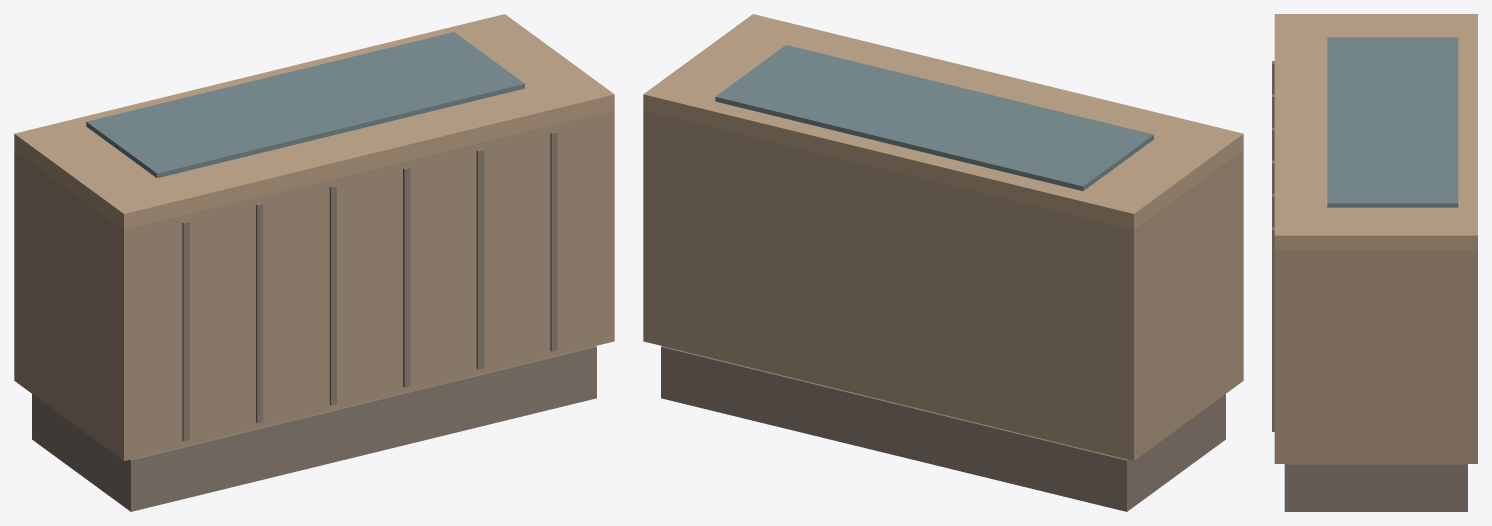
File: container_counter.glb
3 renders of one model, left to right at view 1: azimuth 30°, elevation 25°; view 2: azimuth 150°, elevation 25°; view 3: azimuth 270°, elevation 25°, orthographic. The views are drawn at different scales.
Parts seen in each view (by area): view 1: Cct_Front, Cct_Top, Cct_Kick, Cct_Showcase, Cct_Side-1, Cct_Side1, Cct_Strip4, Cct_Back, Cct_Strip2, Cct_Strip5, Cct_Strip0, Cct_Strip3 (+1 smaller); view 2: Cct_Back, Cct_Top, Cct_Kick, Cct_Showcase, Cct_Side-1, Cct_Side1, Cct_Front; view 3: Cct_Side1, Cct_Top, Cct_Showcase, Cct_Kick, Cct_Front, Cct_Back, Cct_Strip5.
Boxes of the visible parts, bbox=[...] form: Cct_Front: bbox=[115, 114, 599, 460]; Cct_Top: bbox=[14, 14, 614, 229]; Cct_Kick: bbox=[32, 346, 596, 511]; Cct_Showcase: bbox=[86, 32, 524, 178]; Cct_Side-1: bbox=[21, 155, 139, 460]; Cct_Side1: bbox=[599, 110, 614, 344]; Cct_Strip4: bbox=[476, 149, 484, 369]; Cct_Back: bbox=[14, 150, 21, 385]; Cct_Strip2: bbox=[329, 185, 336, 405]; Cct_Strip5: bbox=[550, 131, 557, 351]; Cct_Strip0: bbox=[182, 221, 189, 441]; Cct_Strip3: bbox=[403, 167, 410, 387]; Cct_Back: bbox=[658, 114, 1140, 460]; Cct_Top: bbox=[643, 14, 1243, 229]; Cct_Kick: bbox=[661, 346, 1225, 511]; Cct_Showcase: bbox=[715, 45, 1153, 190]; Cct_Side-1: bbox=[1118, 156, 1234, 460]; Cct_Side1: bbox=[643, 110, 658, 344]; Cct_Front: bbox=[1234, 150, 1243, 386]; Cct_Side1: bbox=[1291, 250, 1464, 463]; Cct_Top: bbox=[1274, 14, 1477, 250]; Cct_Showcase: bbox=[1327, 37, 1458, 207]; Cct_Kick: bbox=[1284, 464, 1467, 511]; Cct_Front: bbox=[1274, 250, 1290, 463]; Cct_Back: bbox=[1464, 250, 1477, 463]; Cct_Strip5: bbox=[1272, 227, 1274, 431].
Bounding box in the file's own units: 1.6 × 0.965 × 0.628.
